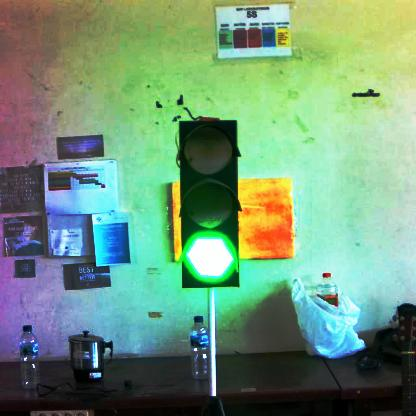Traffic Light -Green-: (180, 121, 240, 290)
